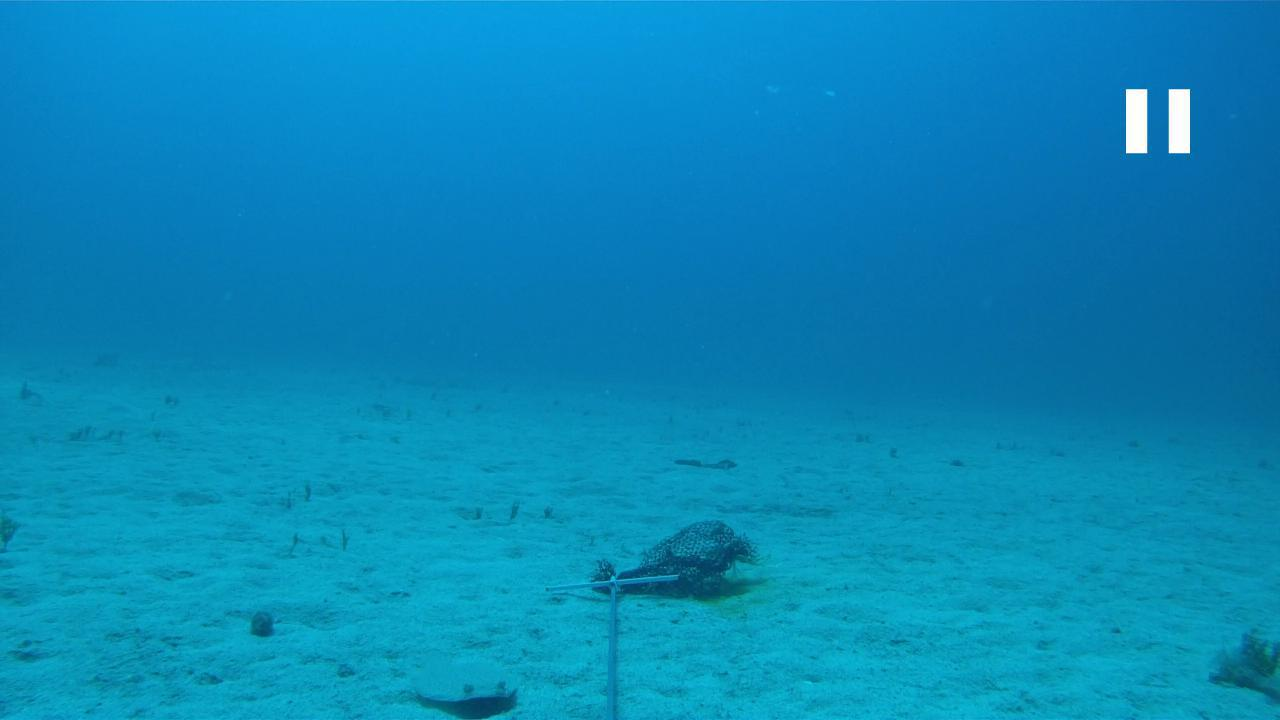bothus: (412, 656, 519, 704)
